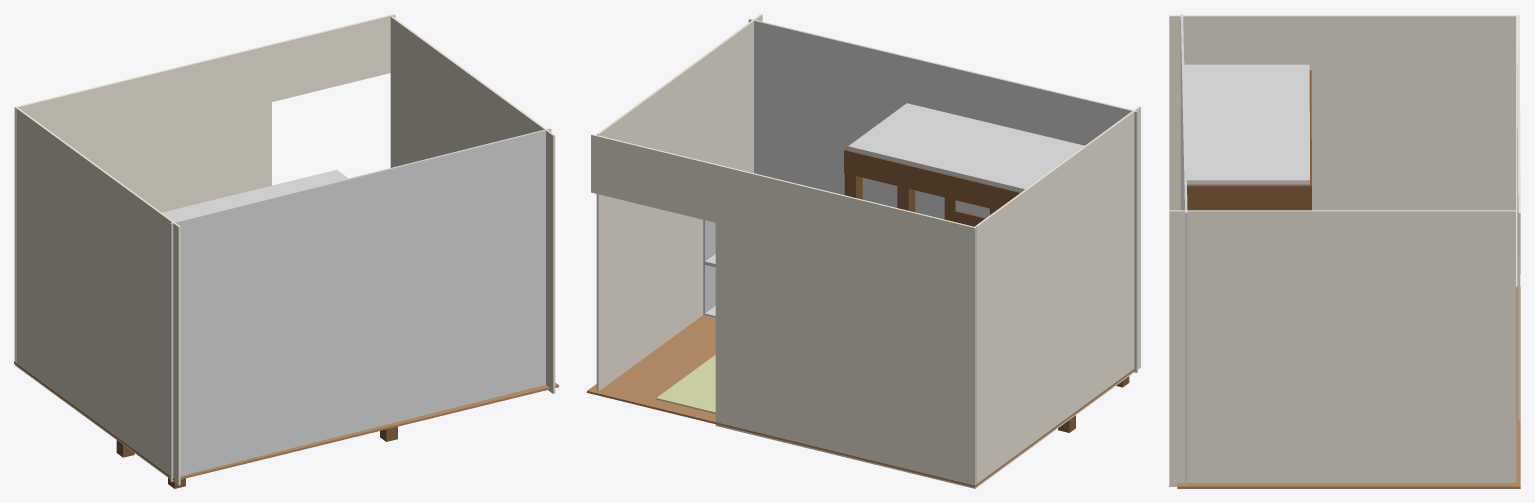
Rendered from Junge Zimmer.fbx.
3 renders of one model, left to right at view 1: azimuth 30°, elevation 25°; view 2: azimuth 150°, elevation 25°; view 3: azimuth 270°, elevation 25°, orthographic. The views are drawn at different scales.
Visible parts, largest first — view 1: Cube.022, Cube.024, Cube.026, Cube.023, Cube.021, Cube.004; view 2: Cube.026, Cube.024, Cube.022, Cube.023, Cube.004, Cube.021, Cube.027, Cube.009, Cube.006; view 3: Cube.023, Cube.024, Cube.004, Cube.027, Cube.021, Cube.022, Cube.026.
Part boxes in pixels (x1,y1,x2,y2): Cube.022: [170, 128, 551, 481]; Cube.024: [16, 108, 180, 485]; Cube.026: [14, 14, 395, 365]; Cube.023: [390, 16, 555, 393]; Cube.021: [14, 361, 558, 480]; Cube.004: [162, 169, 396, 236]; Cube.026: [591, 134, 976, 488]; Cube.024: [974, 106, 1140, 487]; Cube.022: [748, 18, 1137, 372]; Cube.023: [596, 14, 762, 391]; Cube.004: [848, 103, 1084, 192]; Cube.021: [587, 315, 1134, 487]; Cube.027: [844, 147, 1020, 209]; Cube.009: [656, 355, 715, 413]; Cube.006: [703, 220, 715, 317]; Cube.023: [1169, 210, 1516, 486]; Cube.024: [1169, 15, 1516, 210]; Cube.004: [1184, 64, 1309, 184]; Cube.027: [1187, 70, 1311, 210]; Cube.021: [1177, 286, 1520, 488]; Cube.022: [1180, 14, 1187, 484]; Cube.026: [1517, 15, 1520, 420].
Size of the model in its own units: 2817 by 1920 by 2079.
